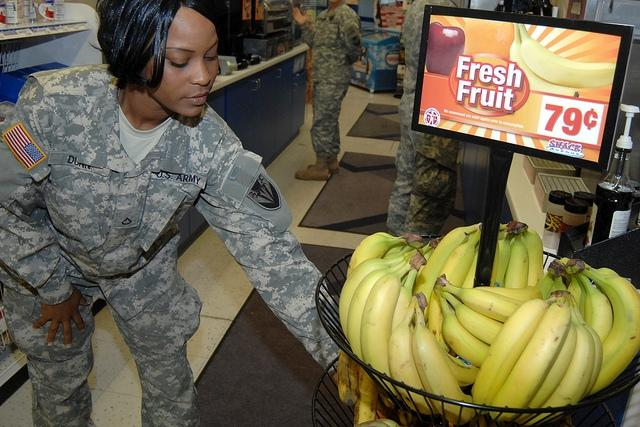apple: (424, 22, 466, 76)
banana: (490, 294, 573, 419), (518, 295, 596, 426), (474, 296, 556, 415), (360, 252, 416, 396), (580, 265, 640, 396), (412, 303, 476, 425), (339, 248, 415, 343), (348, 252, 413, 362), (514, 318, 577, 426), (428, 231, 482, 352), (387, 293, 440, 415), (413, 224, 478, 323), (518, 24, 616, 88), (434, 286, 489, 368), (434, 284, 504, 345), (570, 295, 604, 402), (442, 283, 526, 323), (346, 234, 418, 280), (576, 272, 614, 344), (512, 222, 544, 286), (448, 282, 543, 302), (392, 268, 418, 334), (354, 364, 378, 427), (338, 340, 360, 406), (574, 274, 604, 320), (504, 234, 528, 288), (494, 232, 514, 288), (567, 274, 581, 310), (384, 246, 419, 260), (376, 418, 400, 427)
